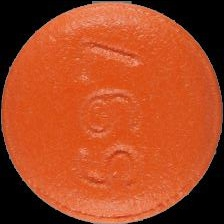0228-2597: (0, 0, 224, 224)
